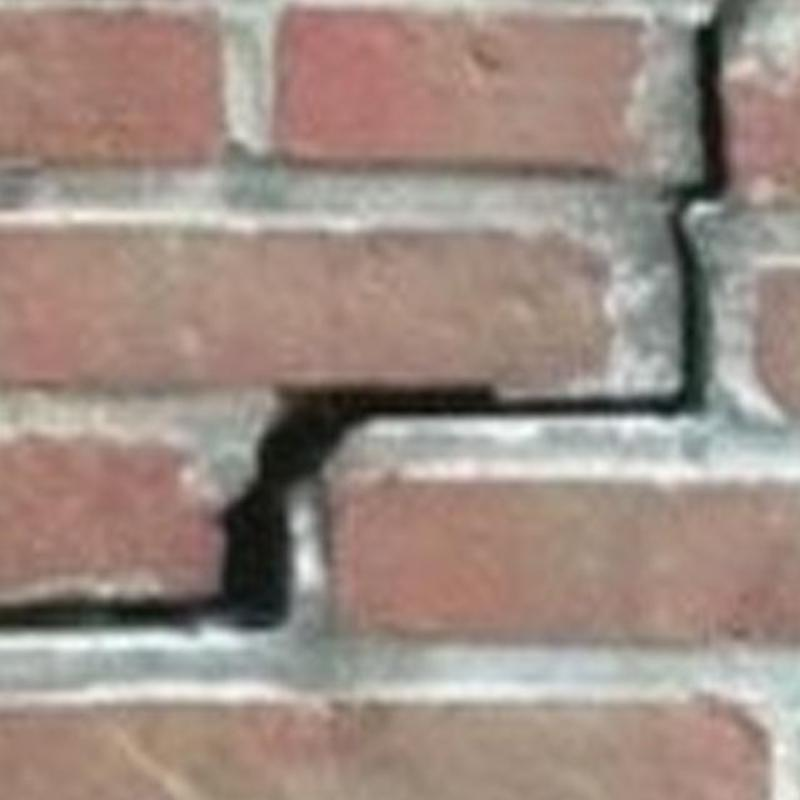pothole: (0, 16, 727, 627)
